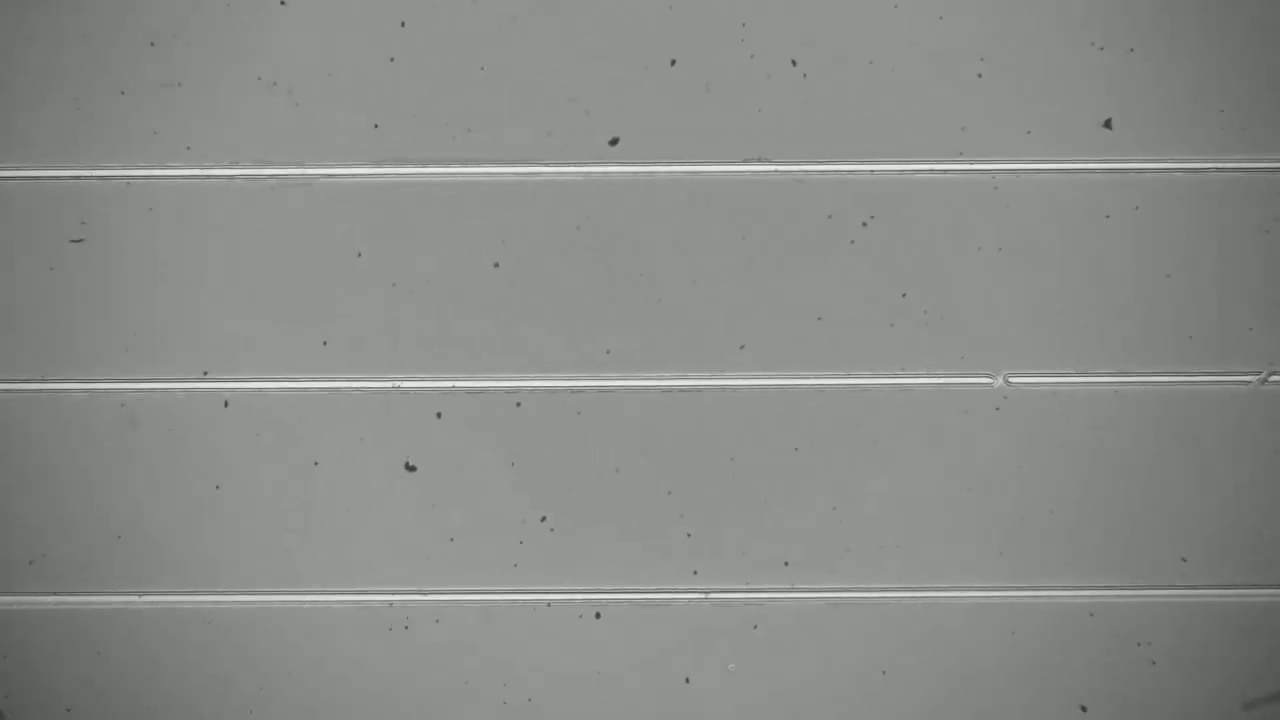open: (979, 356, 1027, 402), (1241, 357, 1279, 400)
